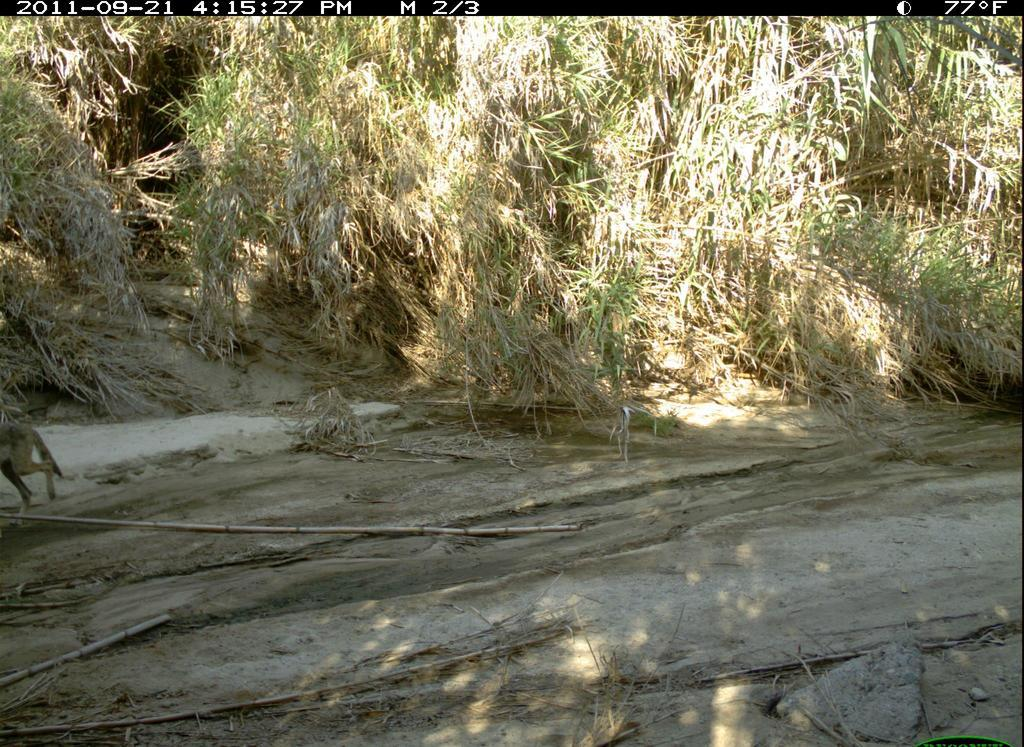coyote: (3, 406, 71, 524)
